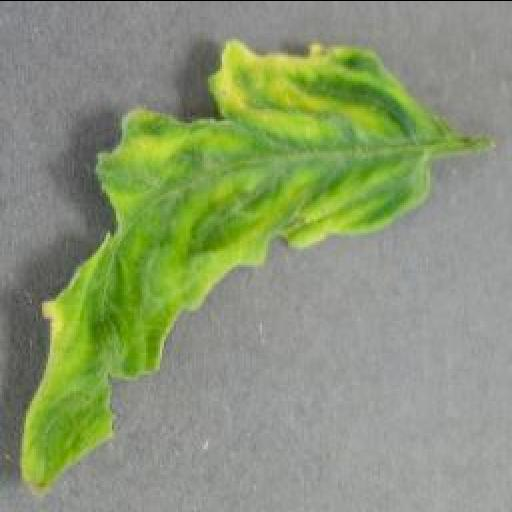disease_tomato: (22, 36, 444, 500)
